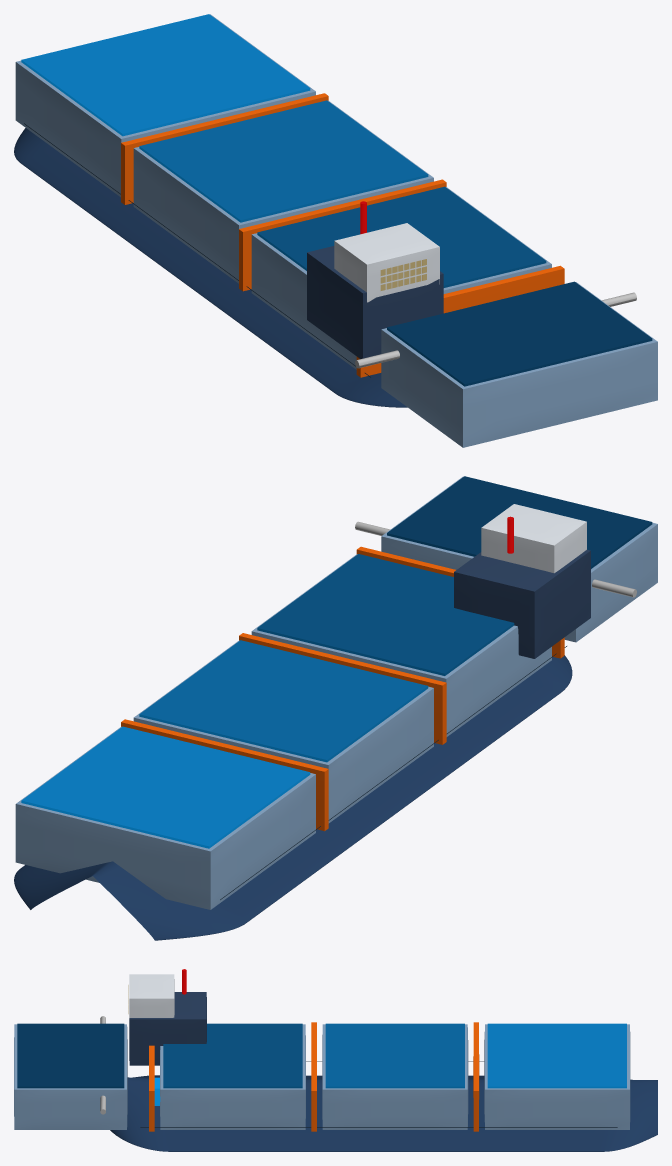
File: lng_carrier.glb
3 views of the same model, one above another, from view 1: azimuth 30°, elevation 25°; view 2: azimuth 150°, elevation 25°; view 3: azimuth 270°, elevation 25° (orthographic). The views are drawn at different scales.
Parts seen in each view (by area): view 1: emissive_tank_1, emissive_tank_2, tank_4, emissive_tank_4, hull, emissive_tank_3, tank_1, tank_2, superstructure, bridge, tank_3, barrier_70 (+2 smaller); view 2: hull, emissive_tank_1, emissive_tank_2, tank_1, emissive_tank_3, superstructure, emissive_tank_4, tank_2, tank_3, tank_4, bridge, barrier_20 (+2 smaller); view 3: hull, emissive_tank_1, emissive_tank_2, emissive_tank_3, emissive_tank_4, tank_1, tank_2, tank_3, tank_4, superstructure, bridge, barrier_-30 (+3 smaller).
Boxes of the visible parts, box(x1,y1,x2,y2) form: emissive_tank_1: box(21, 14, 310, 136); emissive_tank_2: box(139, 100, 428, 222); tank_4: box(381, 282, 657, 447); emissive_tank_4: box(387, 281, 652, 386); hull: box(14, 128, 407, 407); emissive_tank_3: box(257, 186, 546, 287); tank_1: box(15, 14, 315, 197); tank_2: box(133, 100, 433, 283); superstructure: box(307, 246, 443, 358); bridge: box(334, 223, 439, 302); tank_3: box(251, 187, 551, 369); barrier_70: box(356, 265, 564, 377); hull: box(14, 655, 572, 940); emissive_tank_1: box(21, 726, 310, 848); emissive_tank_2: box(139, 640, 428, 762); tank_1: box(15, 726, 315, 909); emissive_tank_3: box(257, 554, 514, 675); superstructure: box(454, 549, 590, 658); emissive_tank_4: box(387, 476, 652, 568); tank_2: box(133, 640, 433, 823); tank_3: box(251, 554, 551, 736); tank_4: box(381, 476, 657, 642); bridge: box(481, 504, 586, 573); barrier_20: box(239, 633, 446, 744); hull: box(110, 1075, 657, 1151); emissive_tank_1: box(487, 1023, 626, 1088); emissive_tank_2: box(325, 1023, 464, 1088); emissive_tank_3: box(163, 1023, 302, 1088); emissive_tank_4: box(17, 1023, 124, 1088); tank_1: box(484, 1024, 630, 1129); tank_2: box(322, 1024, 468, 1129); tank_3: box(160, 1024, 305, 1129); tank_4: box(14, 1024, 127, 1129); superstructure: box(129, 992, 206, 1065); bridge: box(129, 974, 174, 1017); barrier_-30: box(473, 1022, 479, 1131).
Size of the model in its own units: 68 by 40.6 by 198.
